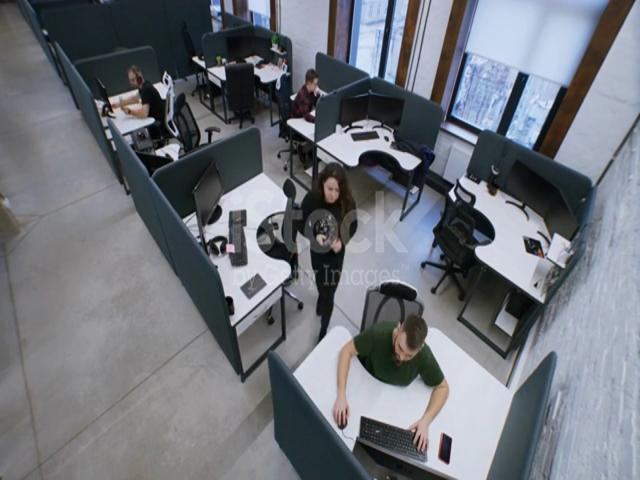EMPTY_CHAIR: (422, 173, 488, 317), (268, 167, 311, 316), (220, 58, 262, 133), (168, 92, 219, 148), (173, 4, 206, 89)
PERSON_IN_CHAIR: (366, 279, 446, 410), (120, 44, 179, 154), (276, 70, 332, 158)
